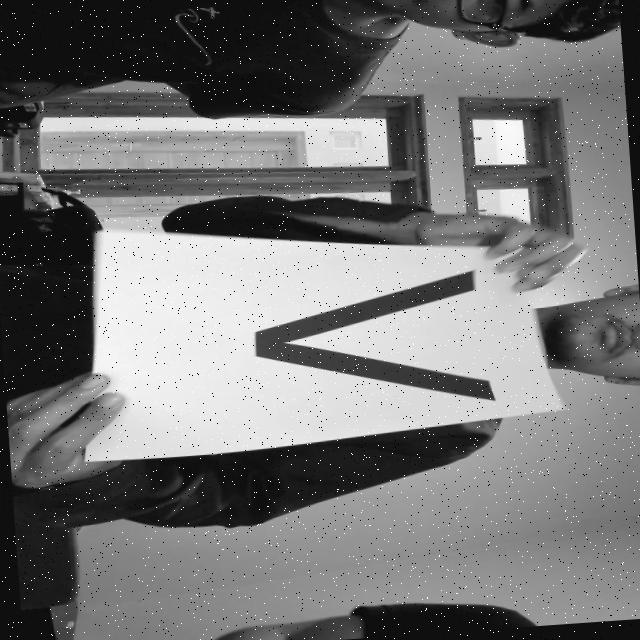v: (214, 258, 510, 436)
